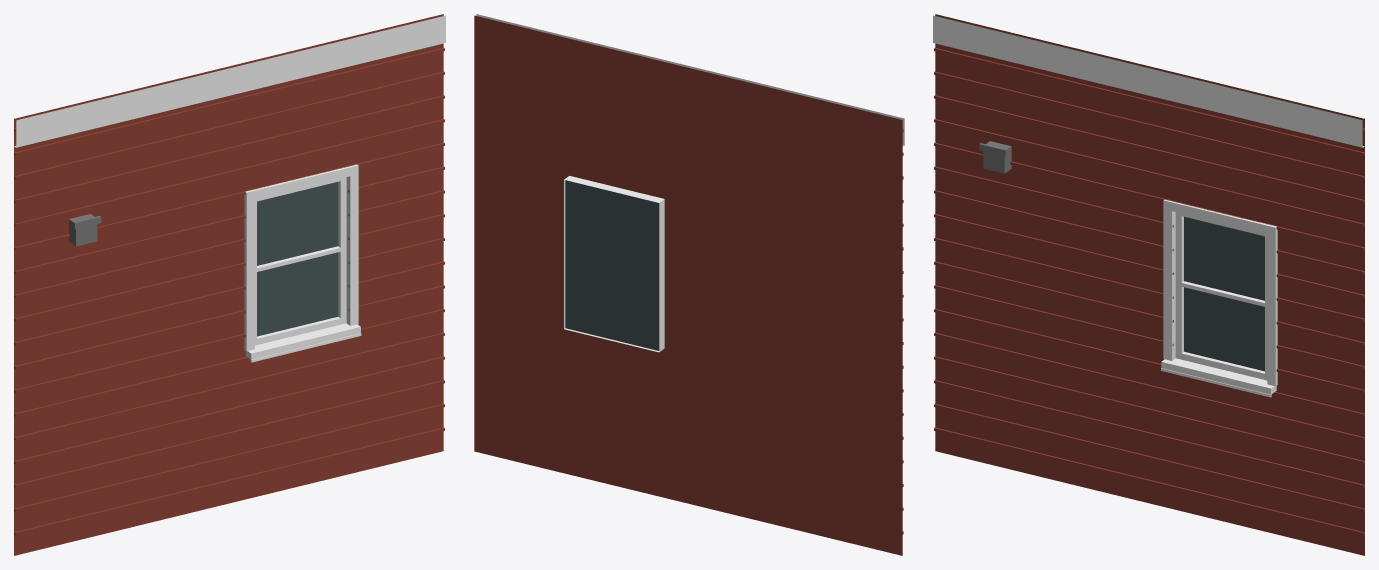
File: top-w4_close.fbx
3 views of the same model, side by side, from view 1: azimuth 30°, elevation 25°; view 2: azimuth 150°, elevation 25°; view 3: azimuth 330°, elevation 25° (orthographic).
Parts seen in each view (by area): view 1: a2000/200/top-w4_close; view 2: a2000/200/top-w4_close; view 3: a2000/200/top-w4_close.
Part boxes in pixels (bbox=[...]): a2000/200/top-w4_close: bbox=[14, 14, 445, 555]; a2000/200/top-w4_close: bbox=[474, 14, 904, 555]; a2000/200/top-w4_close: bbox=[933, 14, 1364, 555].
Size of the model in its own units: 3.6 by 3.5 by 0.2.
